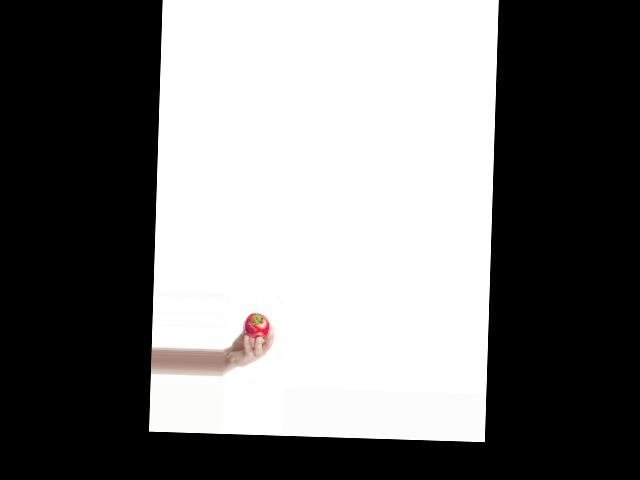tomato: (243, 312, 269, 338)
